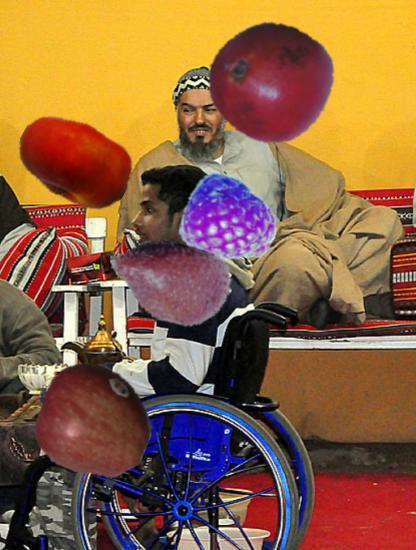Apple: (33, 360, 154, 481)
Nectarine: (16, 102, 135, 221)
Pomegranate: (207, 19, 332, 144)
Raspberry: (177, 175, 277, 275)
Salak: (107, 219, 232, 344)
